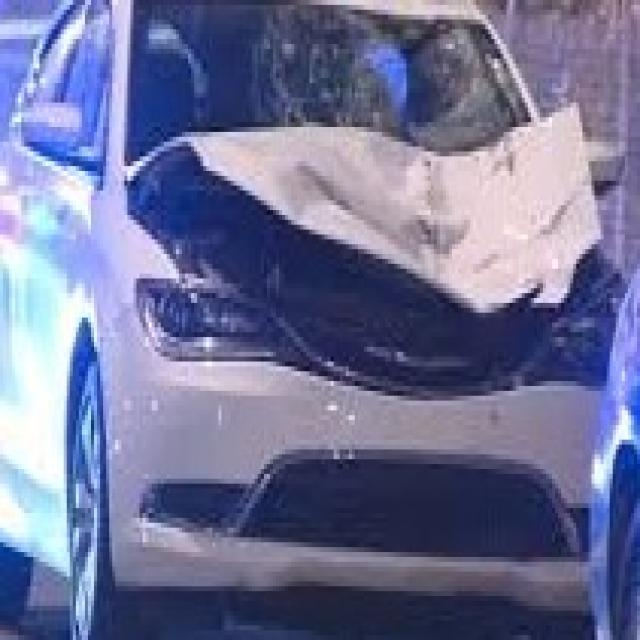moderate: (108, 125, 637, 444)
